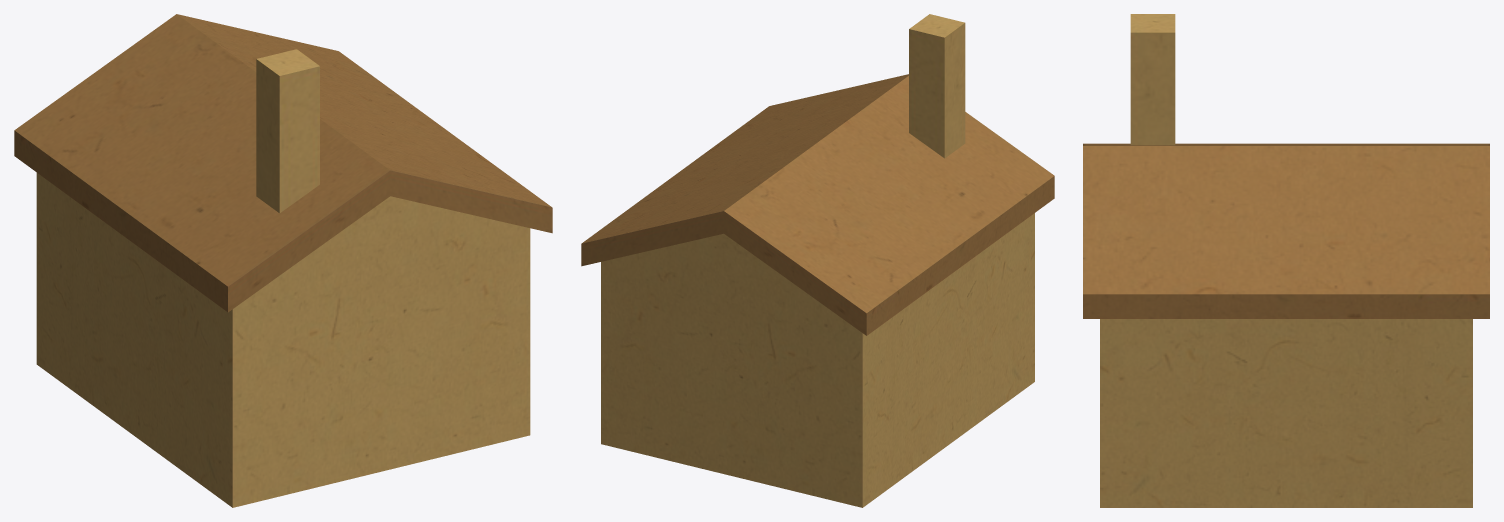
The model's file is part_house.fbx.
The picture shows the model from 3 angles, left to right: view 1: azimuth 30°, elevation 25°; view 2: azimuth 150°, elevation 25°; view 3: azimuth 270°, elevation 25°; orthographic projection. The views are drawn at different scales.
Visible parts, largest first — view 1: Cube.002; view 2: Cube.002; view 3: Cube.002.
Boxes of the visible parts, x1=… form: Cube.002: x1=14, y1=14, x2=552, y2=507; Cube.002: x1=581, y1=14, x2=1054, y2=507; Cube.002: x1=1083, y1=14, x2=1489, y2=507.
Bounding box in the file's own units: 46.53 × 55.44 × 53.09.
1 material, 1 textured.
